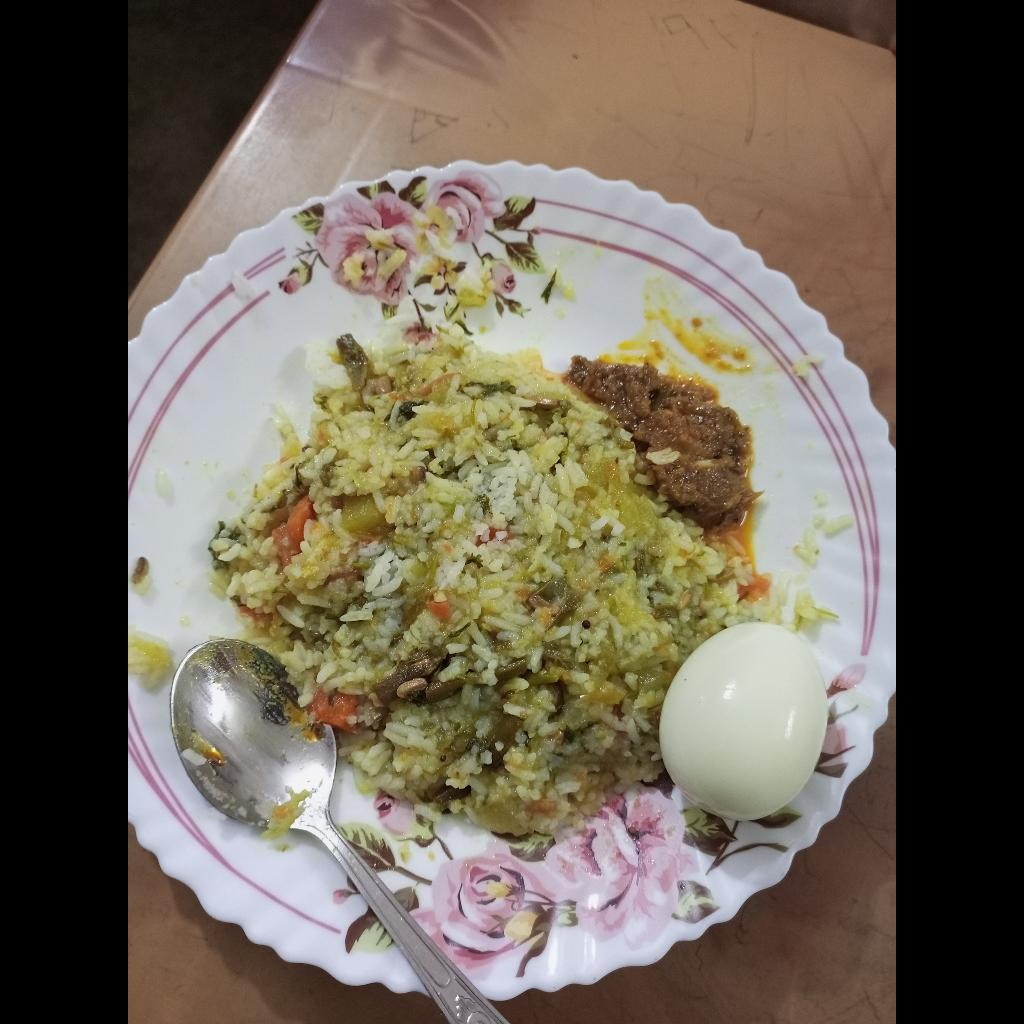achar: (567, 351, 770, 539)
egg-boiled: (657, 615, 834, 829)
khichuri: (200, 338, 758, 840)
